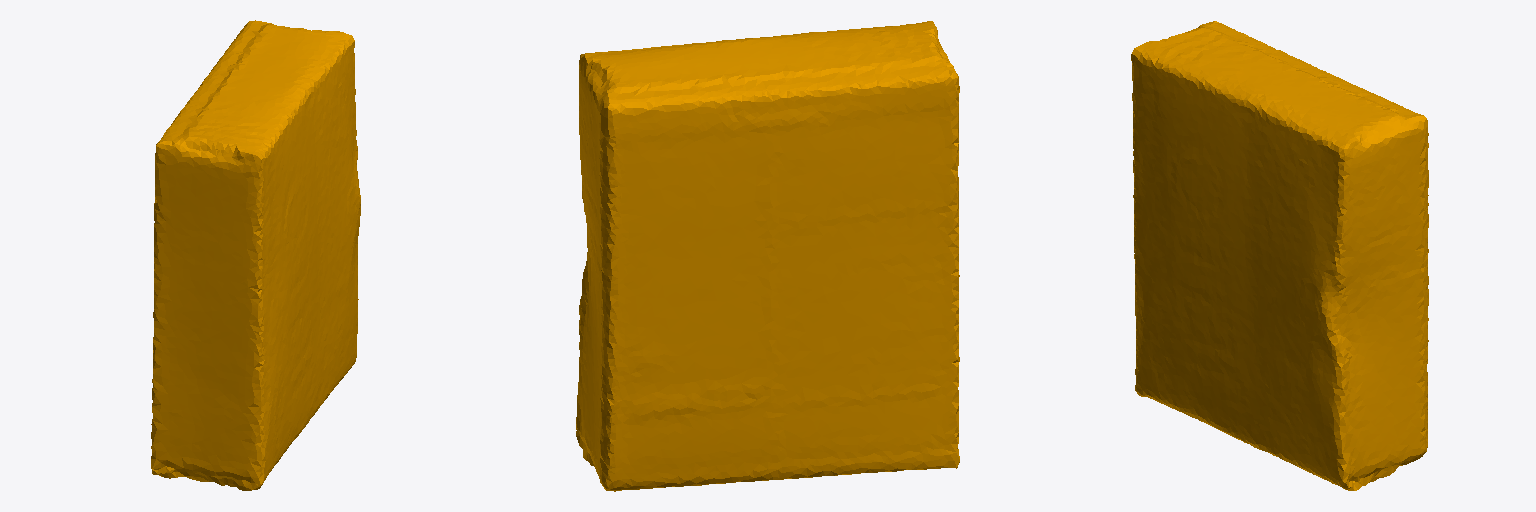
URDF robot description (model.urdf):
<?xml version="0.0" ?>
<robot name="model.urdf">
  <link name="baseLink">
    <contact>
      <lateral_friction value="1.0"/>
      <rolling_friction value="0.0"/>
      <contact_cfm value="0.0"/>
      <contact_erp value="1.0"/>
    </contact>
    <inertial>
       <mass value=".097"/>
       <inertia ixx="1e-3" ixy="0" ixz="0" iyy="1e-3" iyz="0" izz="1e-3"/>
    </inertial>
    <visual>
      <geometry>
        <mesh filename="textured_simple_reoriented.obj" scale="1 1 1"/>
      </geometry>
    </visual>
    <collision>
      <geometry>
    	 	<mesh filename="collision_vhacd.obj" scale="1 1 1"/>
      </geometry>
    </collision>
  </link>
</robot>

--- Facts derived from the render (not from the file) ---
3 views of the same robot in one strip: view 1: azimuth 30°, elevation 25°; view 2: azimuth 150°, elevation 25°; view 3: azimuth 270°, elevation 25° (orthographic).
Robot: model.urdf — 1 links, 0 joints (none); root link baseLink; default pose: every joint at zero.
Links seen in each view (by area): view 1: baseLink; view 2: baseLink; view 3: baseLink.
Link boxes in pixels (bbox=[...]): baseLink: bbox=[151, 20, 360, 490]; baseLink: bbox=[576, 21, 959, 491]; baseLink: bbox=[1131, 21, 1428, 490].
Size in the robot's own frame: 0.0715 by 0.0675 by 0.0892 metres.
1 mesh visuals loaded from 1 distinct referenced files (1 OBJ).